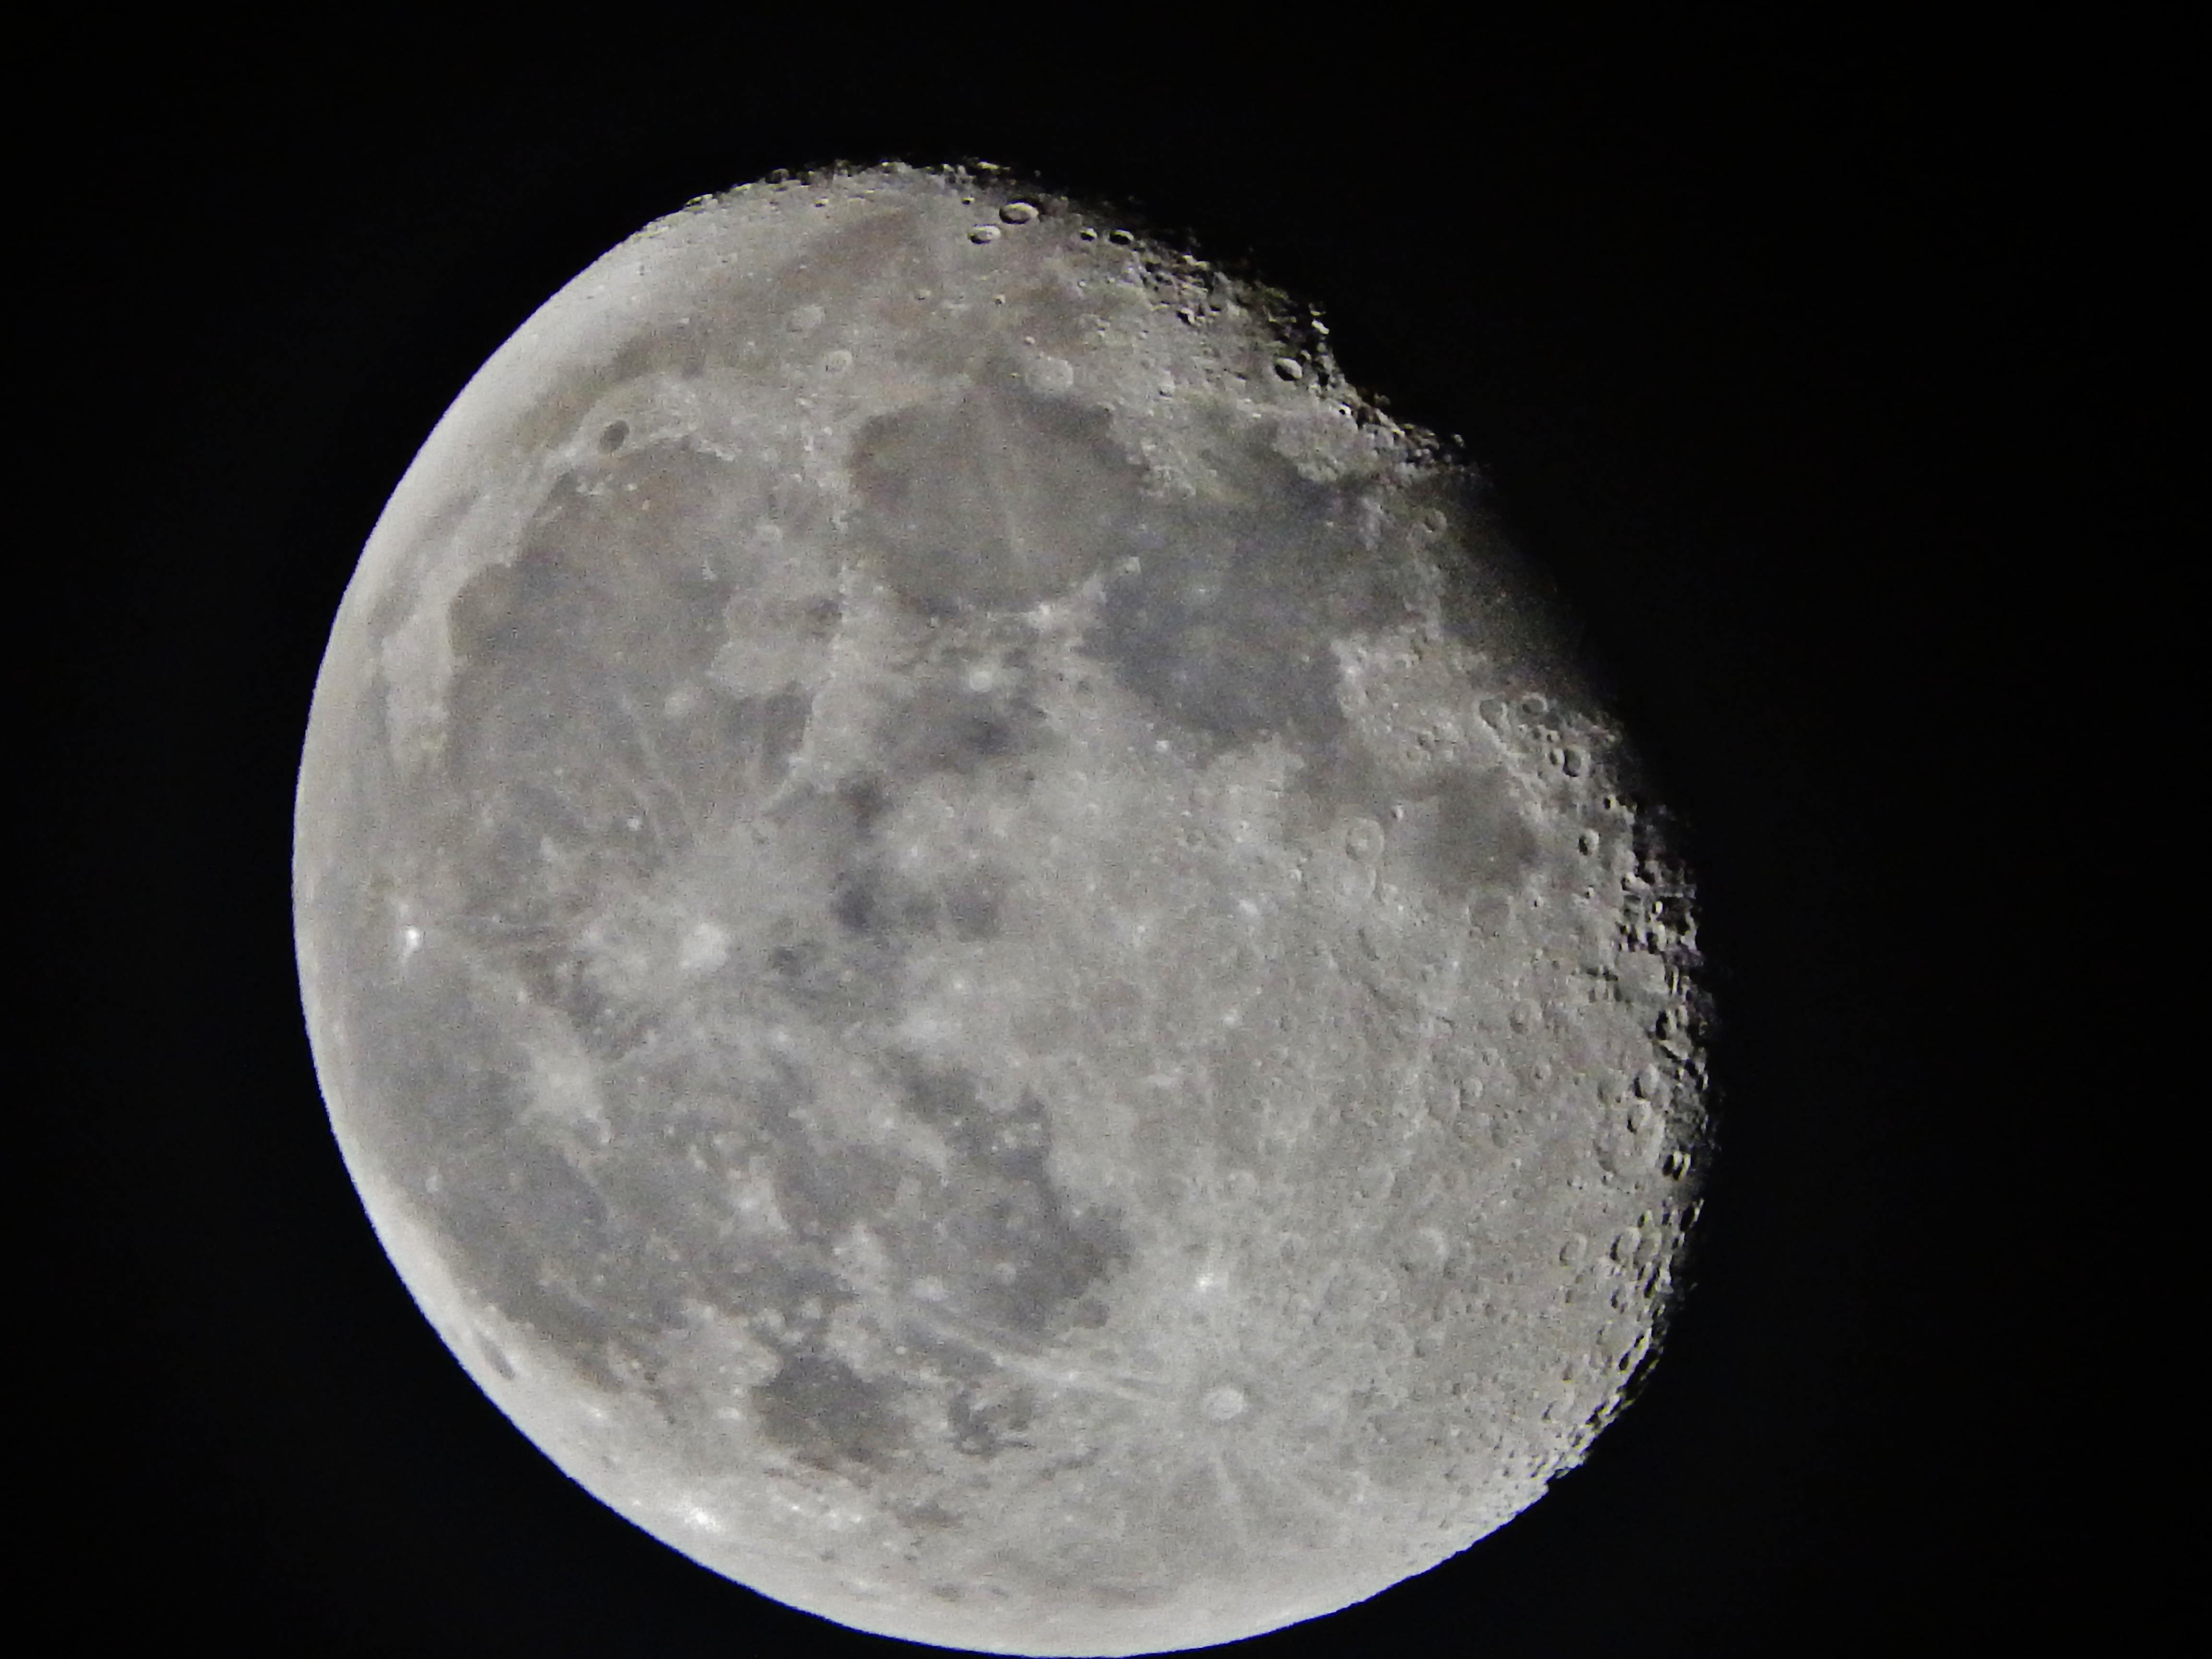crater: (1078, 1269, 1360, 1546), (617, 849, 805, 1053), (568, 397, 658, 493), (1367, 1202, 1460, 1288), (1318, 789, 1393, 890), (1451, 873, 1529, 969), (1014, 345, 1115, 411), (763, 289, 840, 349), (954, 223, 1024, 279), (1096, 213, 1157, 267), (1251, 347, 1310, 401), (1561, 824, 1613, 868), (904, 267, 942, 321), (815, 345, 869, 382), (1588, 775, 1629, 821)
